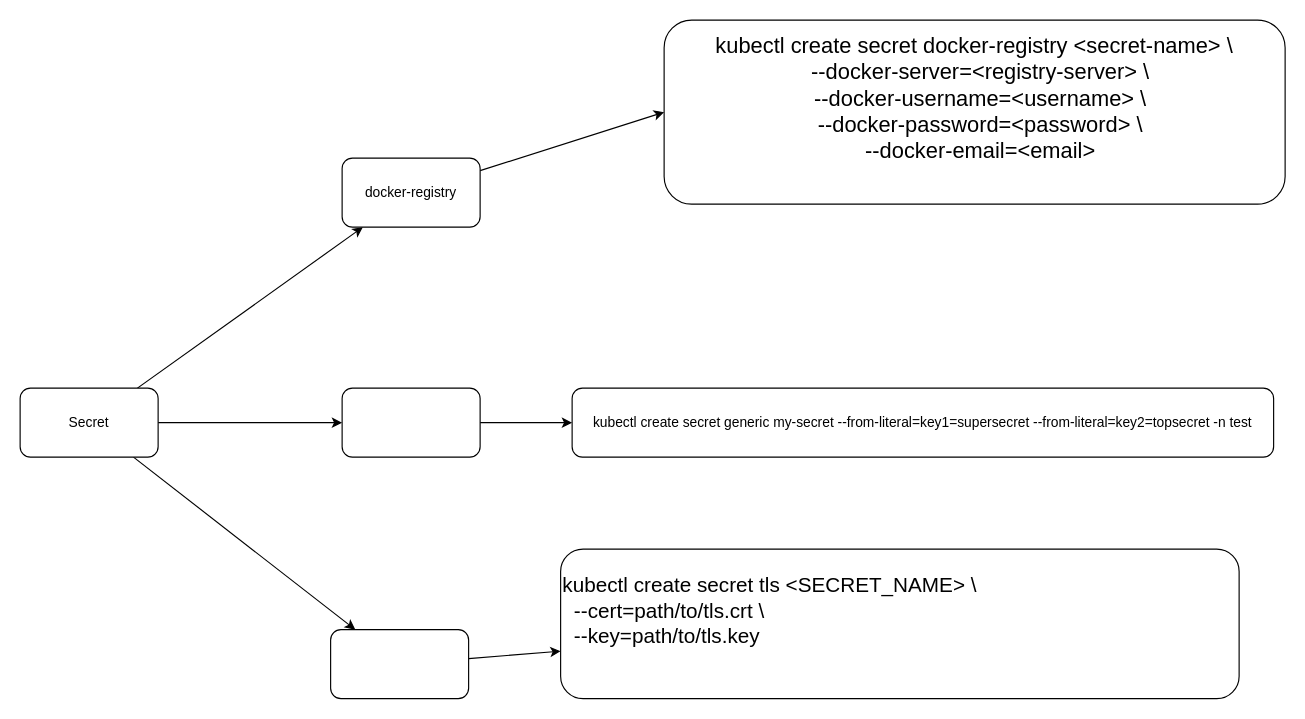
This 1305x719 diagram has some shape labels left out. Each missing label, with the centre of its shape:
"generic" belongs at (x=410, y=422).
"TLS" belongs at (x=399, y=663).
